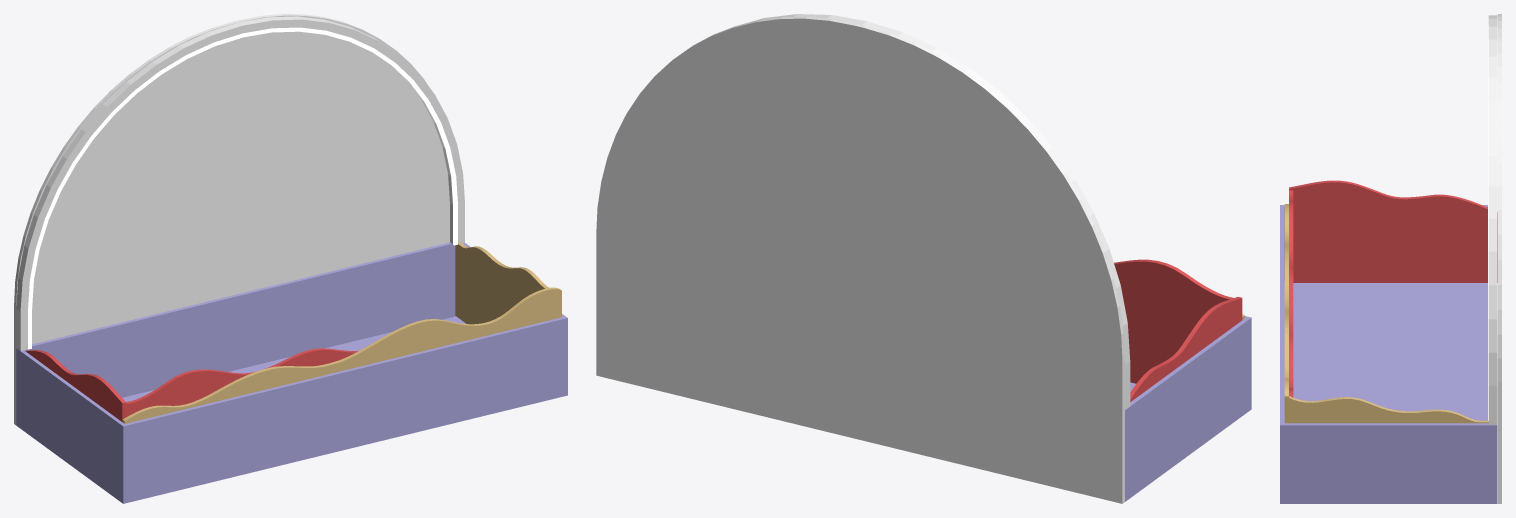
The model's file is Blue Island 1.glb.
3 views of the same model, side by side, from view 1: azimuth 30°, elevation 25°; view 2: azimuth 150°, elevation 25°; view 3: azimuth 270°, elevation 25° (orthographic). The views are drawn at different scales.
Visible parts, largest first — view 1: Cube.001, Cube, Curve, Curve.004, Curve.003, Curve.002, Curve.006, Curve.005; view 2: Cube.001, Cube, Curve.006, Curve, Curve.005; view 3: Cube, Curve.005, Curve, Curve.003, Cube.001, Curve.004, Curve.006, Curve.002.
Boxes of the visible parts, x1,y1,x2,y2 form: Cube.001: [14, 14, 449, 425]; Cube: [16, 242, 567, 503]; Curve: [16, 16, 464, 350]; Curve.004: [122, 287, 561, 423]; Curve.003: [455, 243, 548, 324]; Curve.002: [28, 27, 457, 349]; Curve.006: [122, 348, 358, 419]; Curve.005: [25, 350, 126, 421]; Cube.001: [596, 16, 1124, 503]; Cube: [1125, 316, 1251, 501]; Curve.006: [1114, 259, 1233, 383]; Curve: [744, 14, 1130, 409]; Curve.005: [1130, 297, 1242, 401]; Cube: [1280, 205, 1497, 503]; Curve.005: [1289, 180, 1497, 282]; Curve: [1488, 15, 1497, 424]; Curve.003: [1284, 395, 1488, 423]; Cube.001: [1497, 14, 1501, 503]; Curve.004: [1284, 204, 1288, 423]; Curve.006: [1289, 190, 1293, 397]; Curve.002: [1488, 24, 1488, 420].
Bounding box in the file's own units: 6 × 4.5 × 2.55.
